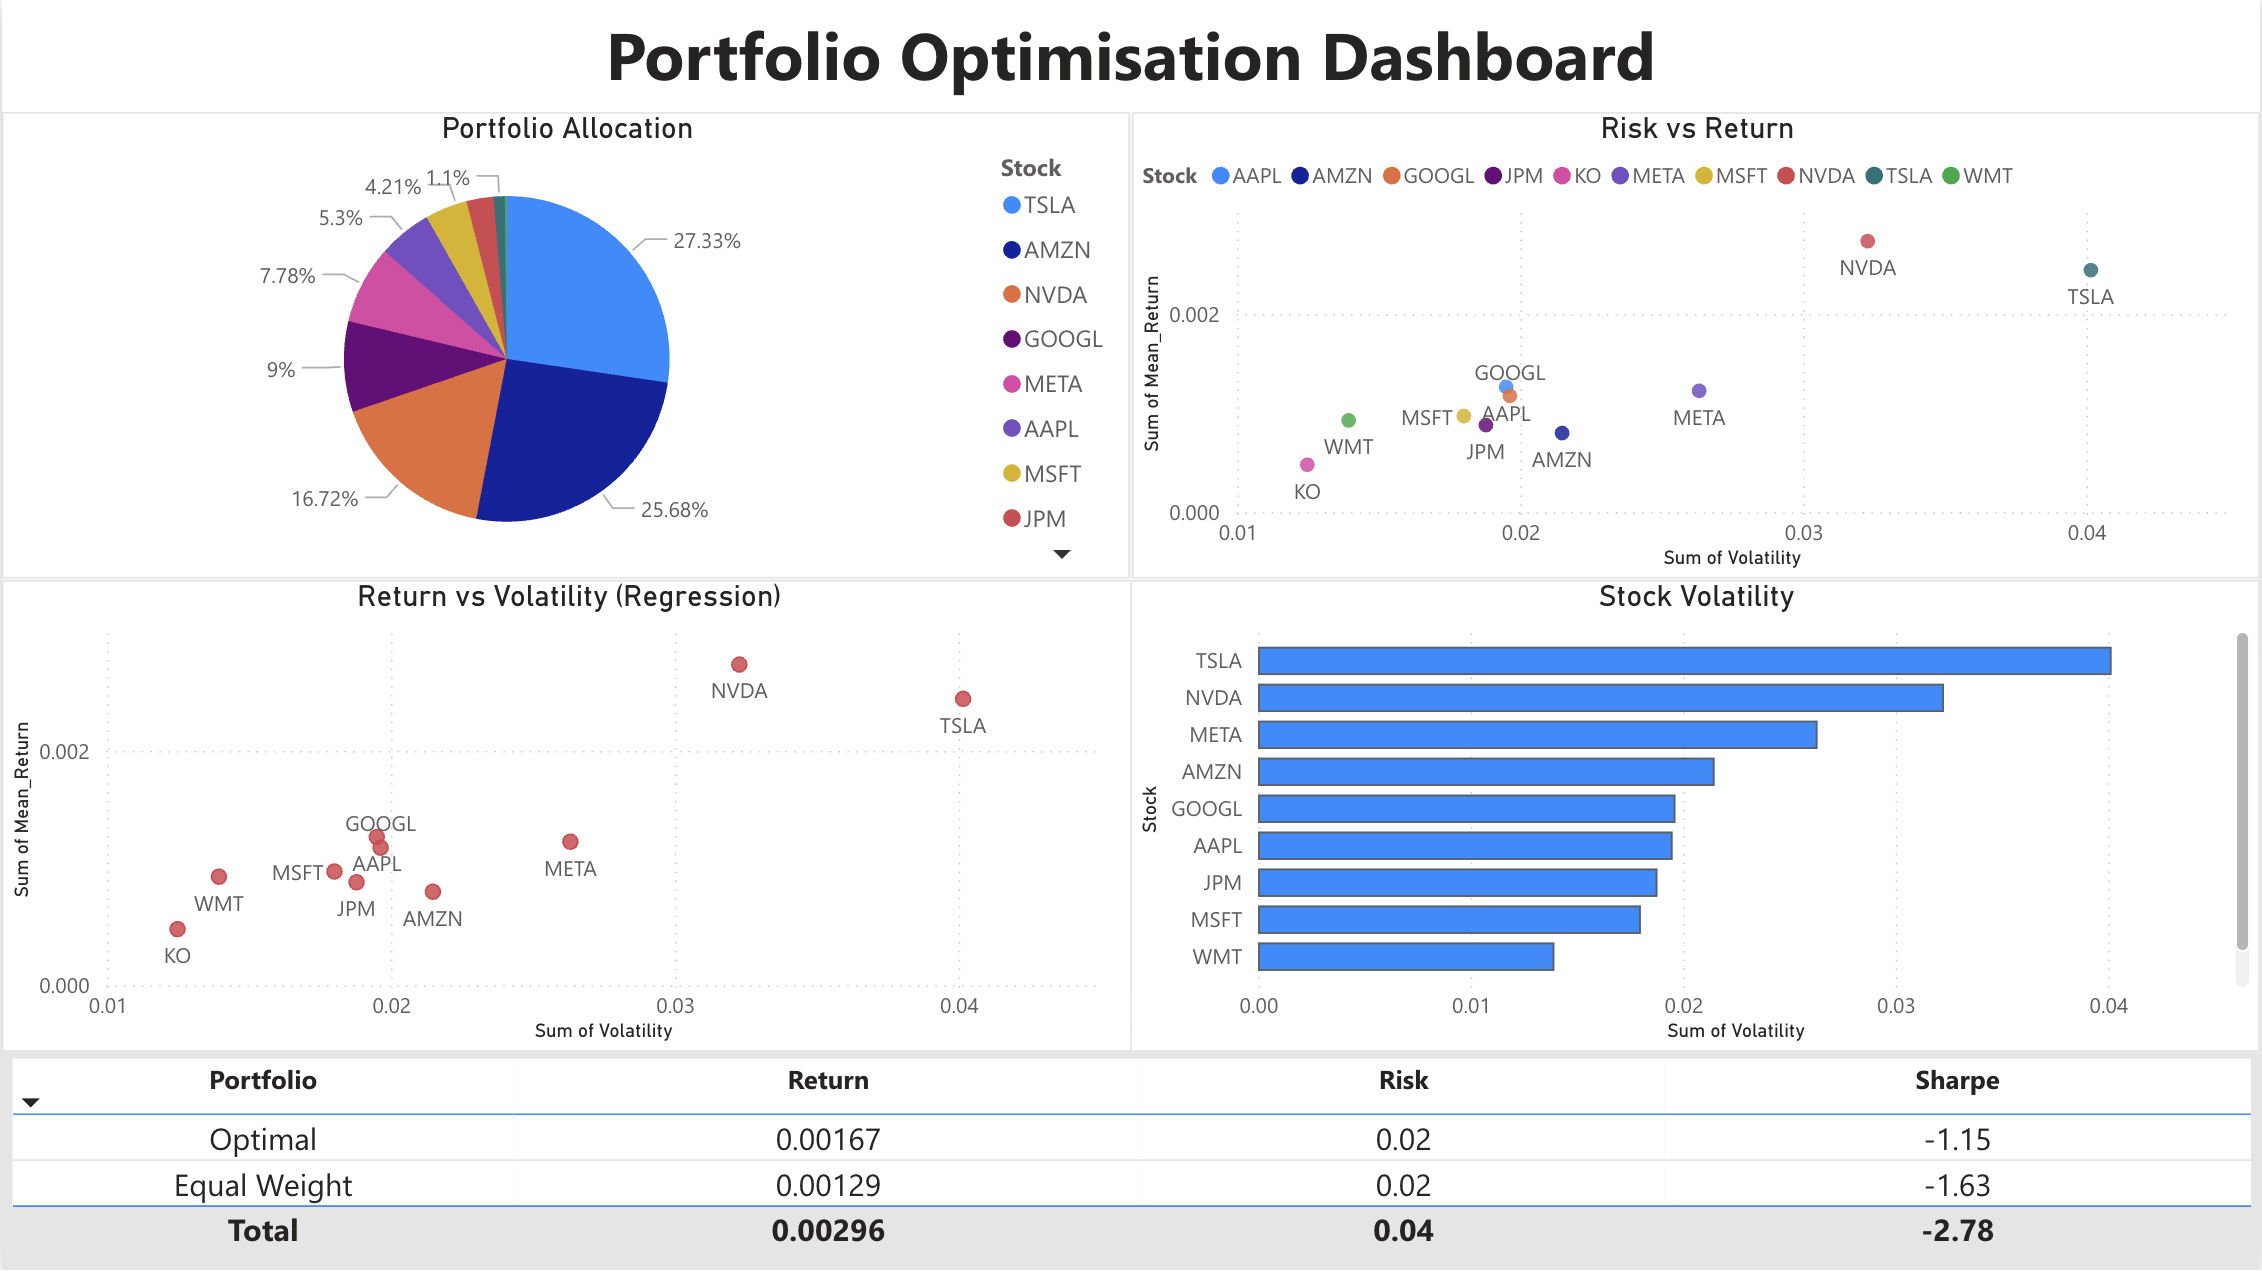

This screenshot's page, from the dashboard's own definition file:
{"tool":"powerbi","page":{"name":"Page 1","canvas":[1280,720],"ordinal":0},"visuals":[{"type":"textbox","box":[0,0,1280,63.9],"z":0},{"type":"pieChart","title":"Portfolio Allocation","fields":{"Category":["optimal_weights 3.Stock"],"Y":["Sum(optimal_weights 3.Weight)"]},"box":[0,63.9,639.3,264.4],"z":1000},{"type":"scatterChart","title":"Risk vs Return","fields":{"X":["Sum(summary_statistics 3.Volatility)"],"Y":["Sum(summary_statistics 3.Mean_Return)"],"Series":["summary_statistics 3.Stock"]},"box":[640.7,63.9,639.3,264.4],"z":2000},{"type":"clusteredBarChart","title":"Stock Volatility","fields":{"Category":["summary_statistics 3.Stock"],"Y":["Sum(summary_statistics 3.Volatility)"]},"box":[639.3,328.4,640.7,267.3],"z":2001},{"type":"scatterChart","title":"Return vs Volatility (Regression)","fields":{"X":["Sum(regression_results.Volatility)"],"Y":["Sum(regression_results.Mean_Return)"],"Category":["regression_results.Stock"]},"box":[0,328.4,640.7,267.3],"z":2002},{"type":"tableEx","fields":{"Values":["portfolio_comparison 3.Portfolio","Sum(portfolio_comparison 3.Return)","Sum(portfolio_comparison 3.Risk)","Sum(portfolio_comparison 3.Sharpe)"]},"box":[0,595.7,1280,124.9],"z":2003}]}

Visuals, with their boxes in screenshot pixels (x1, y1, x2, y2), scaled from the page's 1280x720 canvas onto the 2262x1272 screenshot:
textbox: {"left": 0, "top": 0, "right": 2261, "bottom": 113}
"Portfolio Allocation" pieChart: {"left": 0, "top": 113, "right": 1130, "bottom": 580}
"Risk vs Return" scatterChart: {"left": 1132, "top": 113, "right": 2261, "bottom": 580}
"Stock Volatility" clusteredBarChart: {"left": 1130, "top": 580, "right": 2261, "bottom": 1052}
"Return vs Volatility (Regression)" scatterChart: {"left": 0, "top": 580, "right": 1132, "bottom": 1052}
tableEx - portfolio_comparison 3.Portfolio x Sum(portfolio_comparison 3.Return): {"left": 0, "top": 1052, "right": 2261, "bottom": 1271}
